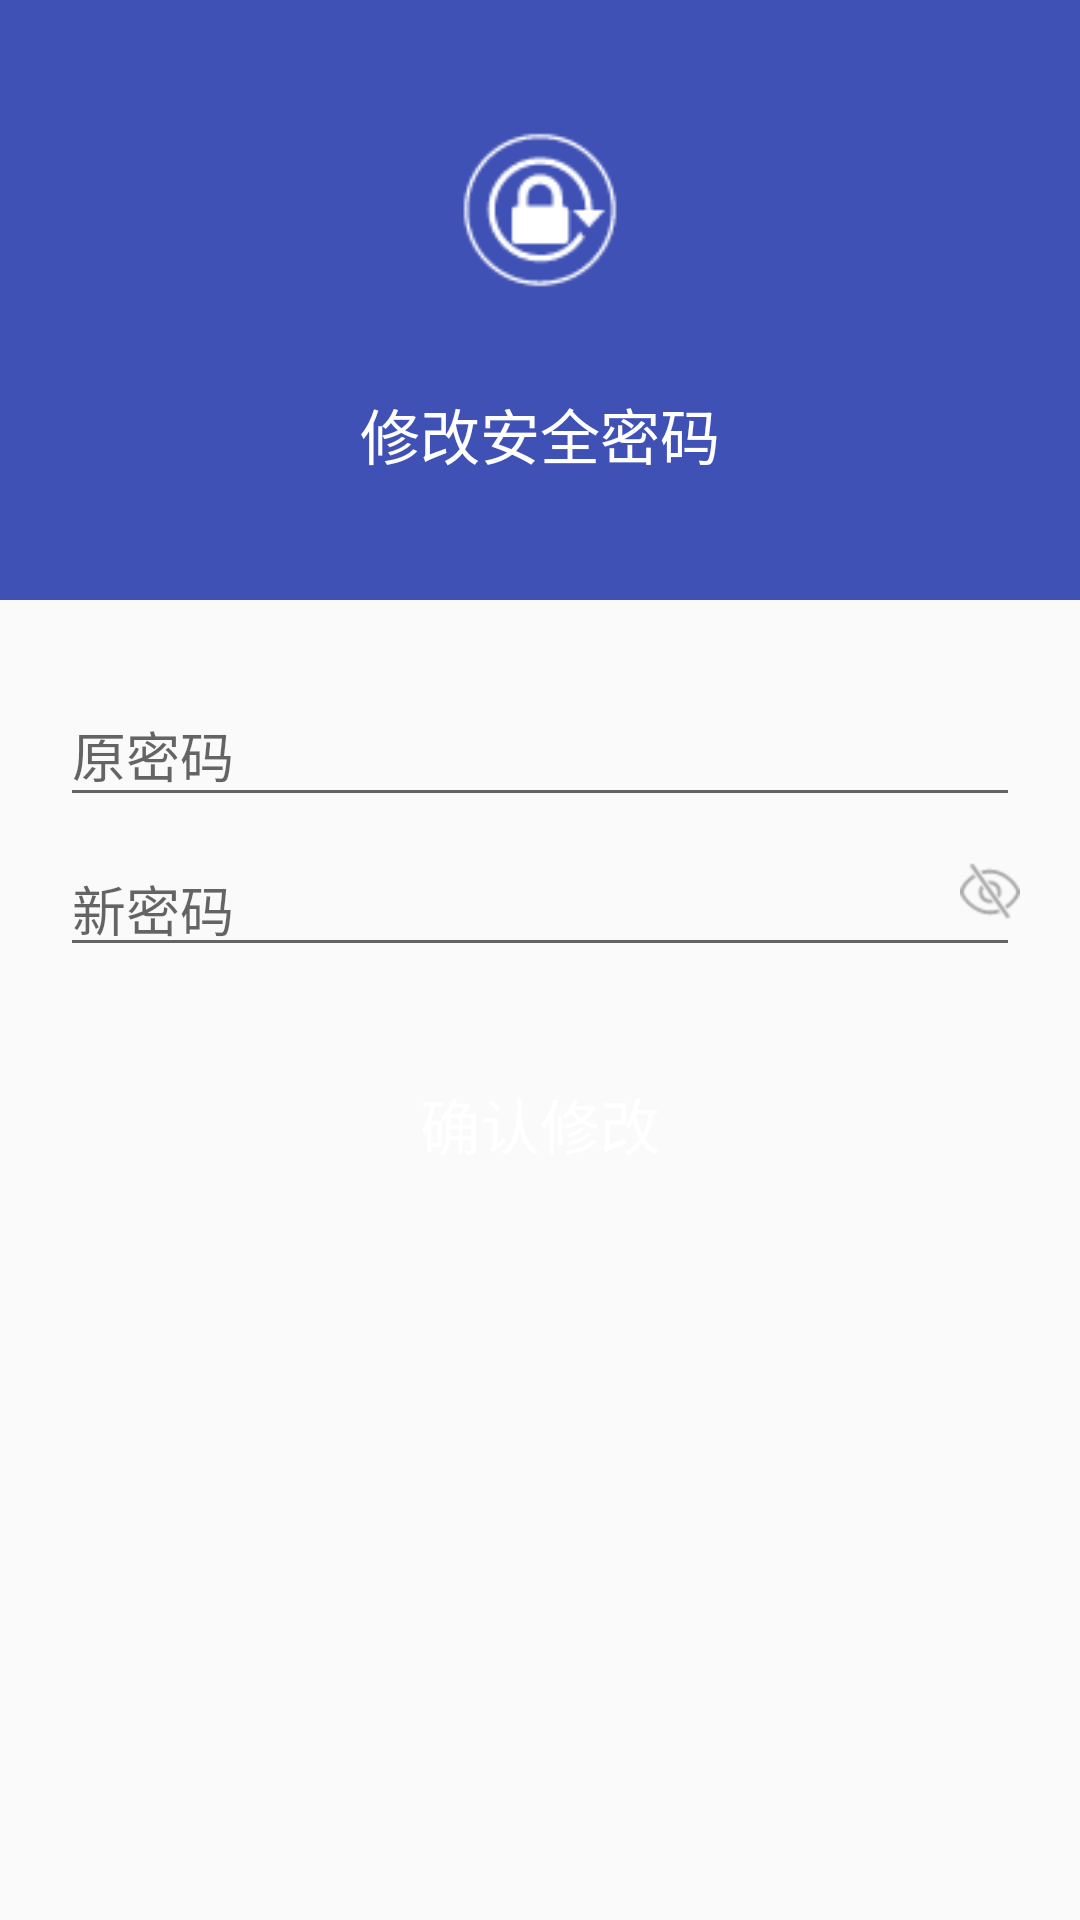

Where to tap for icons on this 1080px×1920px app screen, as point (x, y):
no visible: point (990, 891)
update psw: point (540, 210)
